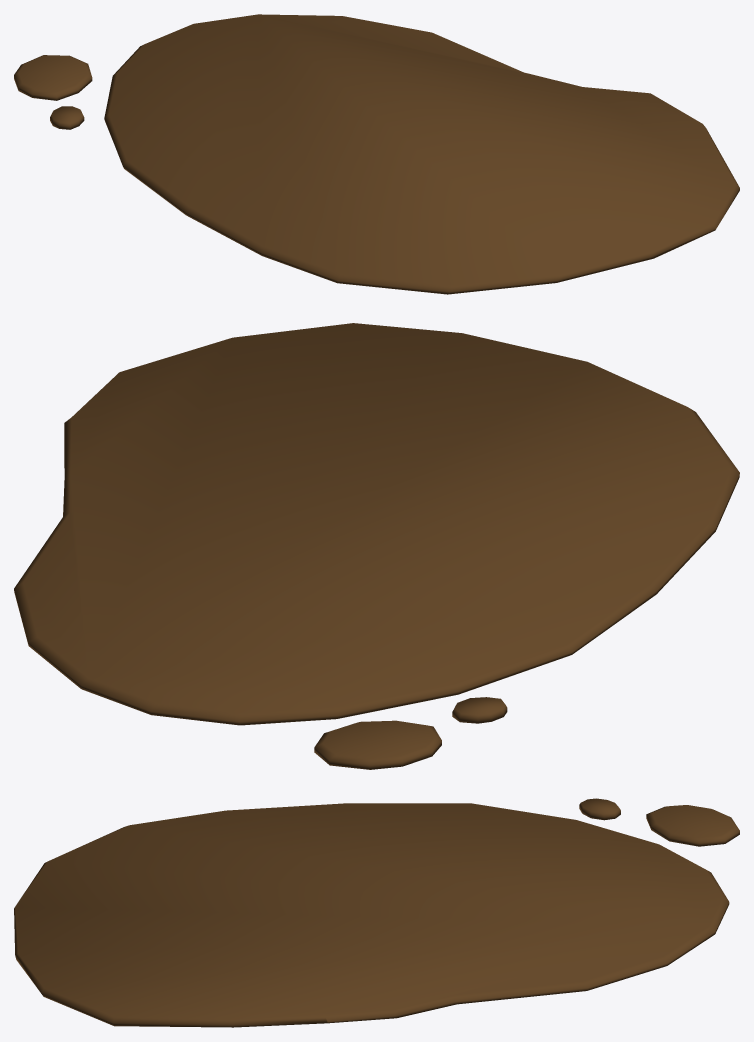
The model's file is lama05.fbx.
The picture shows the model from 3 angles, top to bottom: view 1: azimuth 30°, elevation 25°; view 2: azimuth 150°, elevation 25°; view 3: azimuth 270°, elevation 25°; orthographic projection. The views are drawn at different scales.
Parts seen in each view (by area): view 1: poça_lama; view 2: poça_lama; view 3: poça_lama.
Part boxes in pixels (bbox=[...]): poça_lama: bbox=[14, 14, 739, 294]; poça_lama: bbox=[14, 323, 739, 769]; poça_lama: bbox=[14, 798, 739, 1027].
Bounding box in the file's own units: 647 × 847 × 22.9.
